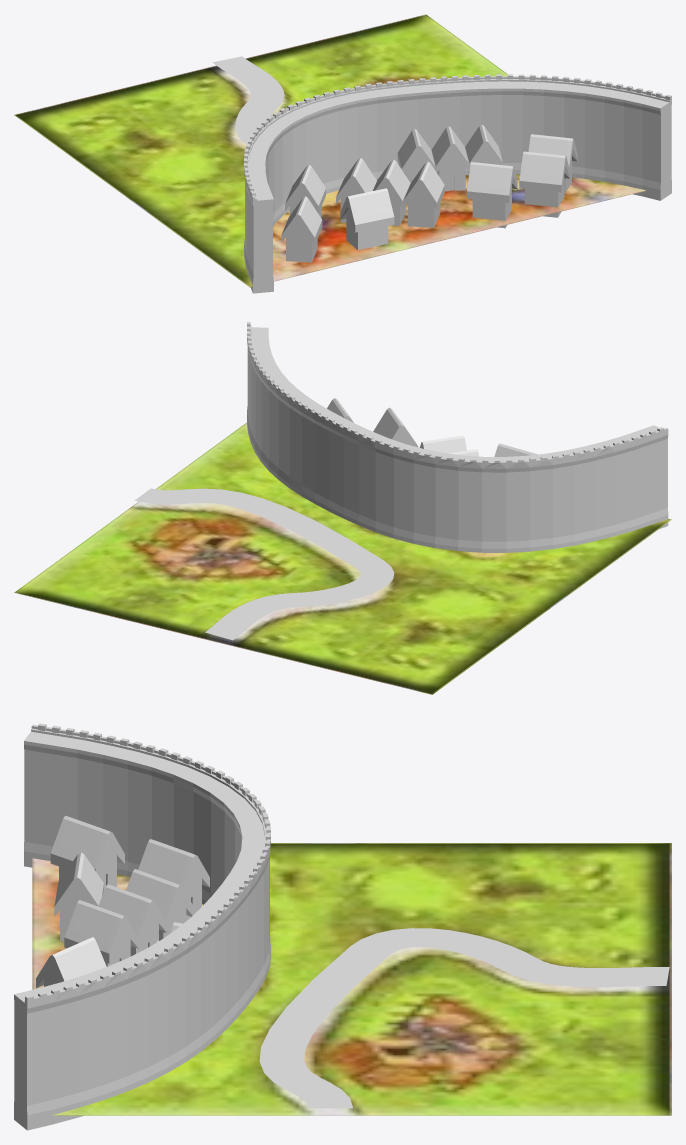
The model's file is tile1.fbx.
3 views of the same model, one above another, from view 1: azimuth 30°, elevation 25°; view 2: azimuth 150°, elevation 25°; view 3: azimuth 270°, elevation 25° (orthographic). The views are drawn at different scales.
Parts seen in each view (by area): view 1: BezierCurve.003; view 2: BezierCurve.003; view 3: BezierCurve.003.
Boxes of the visible parts, left/top/right/bottom form: BezierCurve.003: left=14, top=14, right=671, bottom=293; BezierCurve.003: left=14, top=322, right=671, bottom=694; BezierCurve.003: left=14, top=723, right=671, bottom=1130.
Bounding box in the file's own units: 102 × 23.52 × 102.
